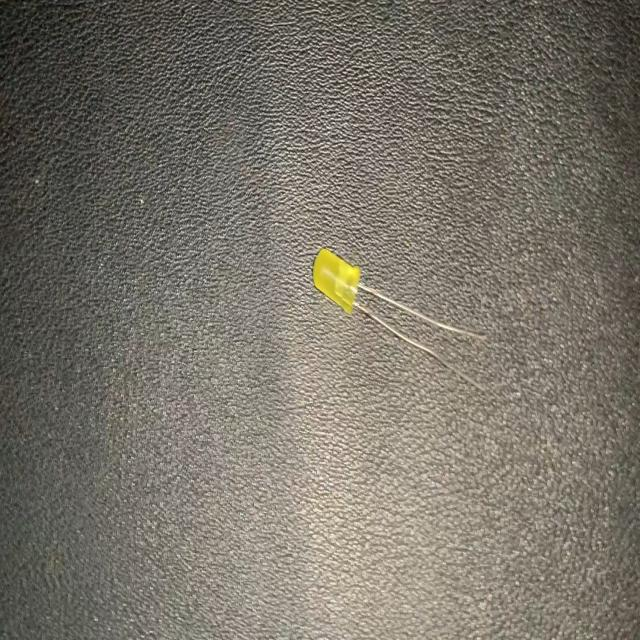LED: (308, 244, 487, 400)
